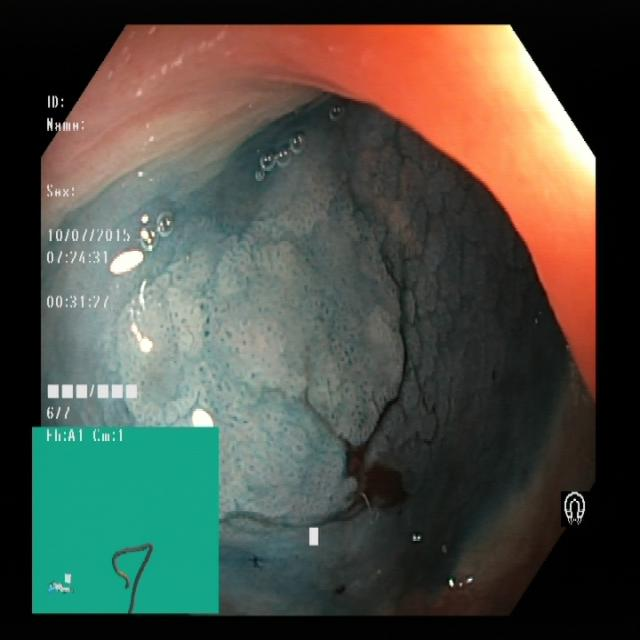dyed-lifted-polyps: (114, 99, 422, 541)
